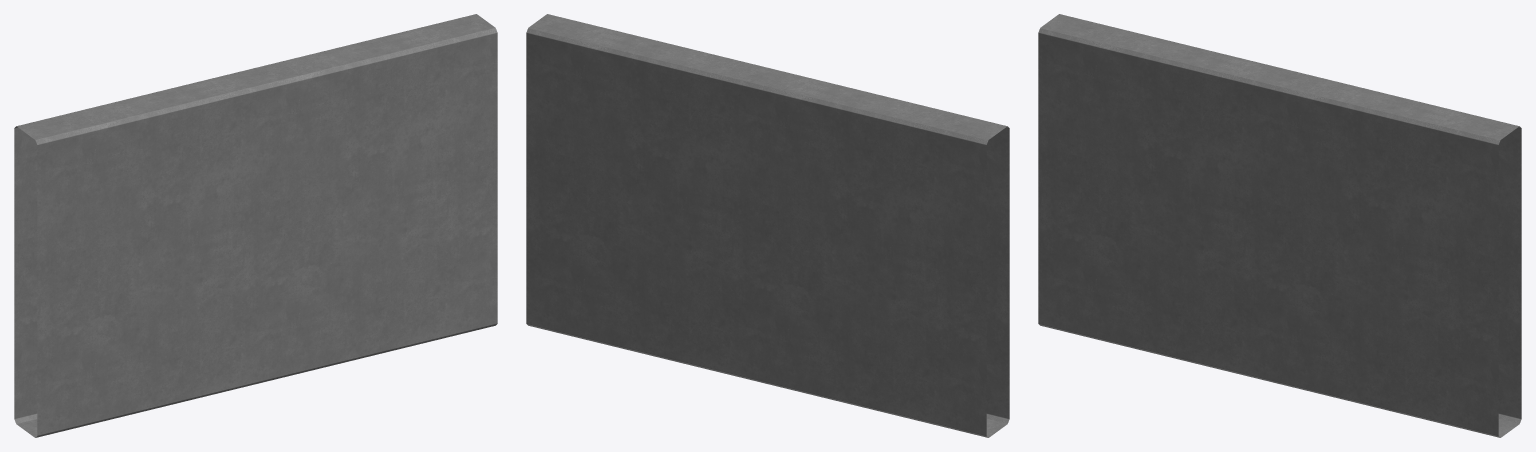
File: ModularWallSolid.FBX
3 renders of one model, left to right at view 1: azimuth 30°, elevation 25°; view 2: azimuth 150°, elevation 25°; view 3: azimuth 330°, elevation 25°, orthographic.
Parts seen in each view (by area): view 1: Box010; view 2: Box010; view 3: Box010.
Boxes of the visible parts, left/top/right/bottom form: Box010: left=14, top=14, right=497, bottom=437; Box010: left=526, top=14, right=1009, bottom=437; Box010: left=1038, top=14, right=1521, bottom=437.
Size of the model in its own units: 113 by 69.74 by 9.74.
